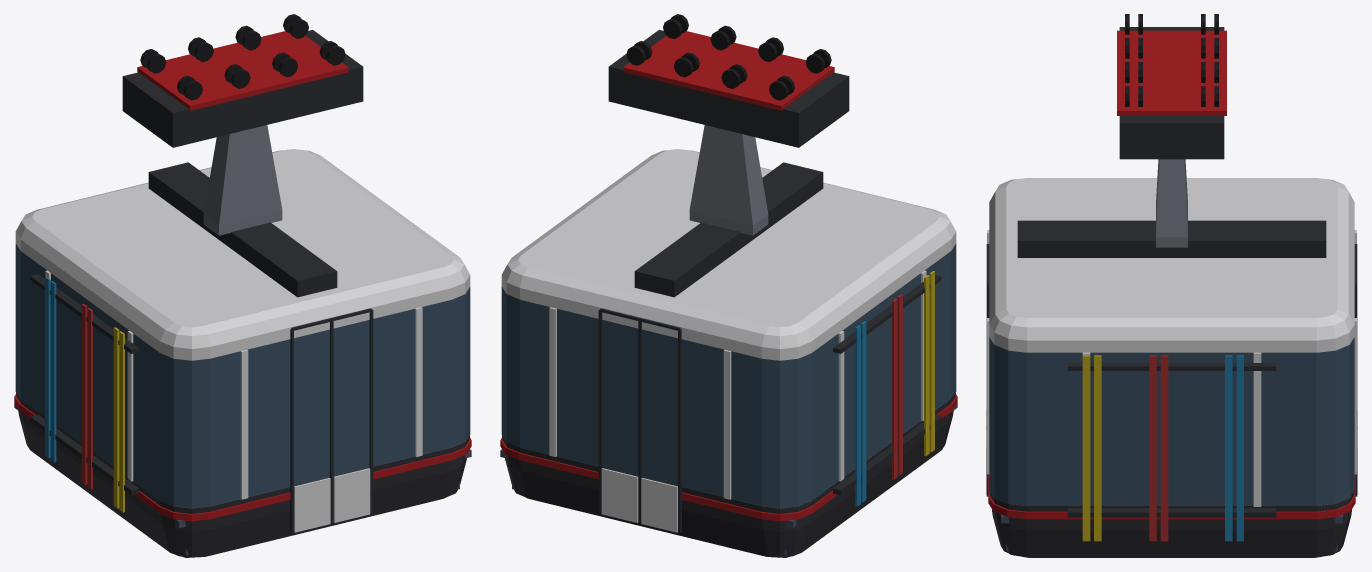
The model's file is tri_cabin.obj.
The picture shows the model from 3 angles, left to right: view 1: azimuth 30°, elevation 25°; view 2: azimuth 150°, elevation 25°; view 3: azimuth 270°, elevation 25°; orthographic projection. The views are drawn at different scales.
Bounding box in the file's own units: 4.11 × 5.05 × 3.91.
